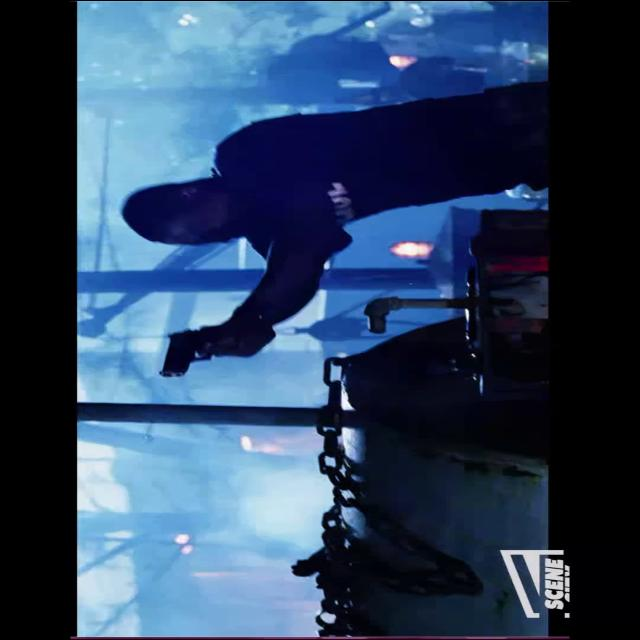weapons: (141, 318, 277, 384)
